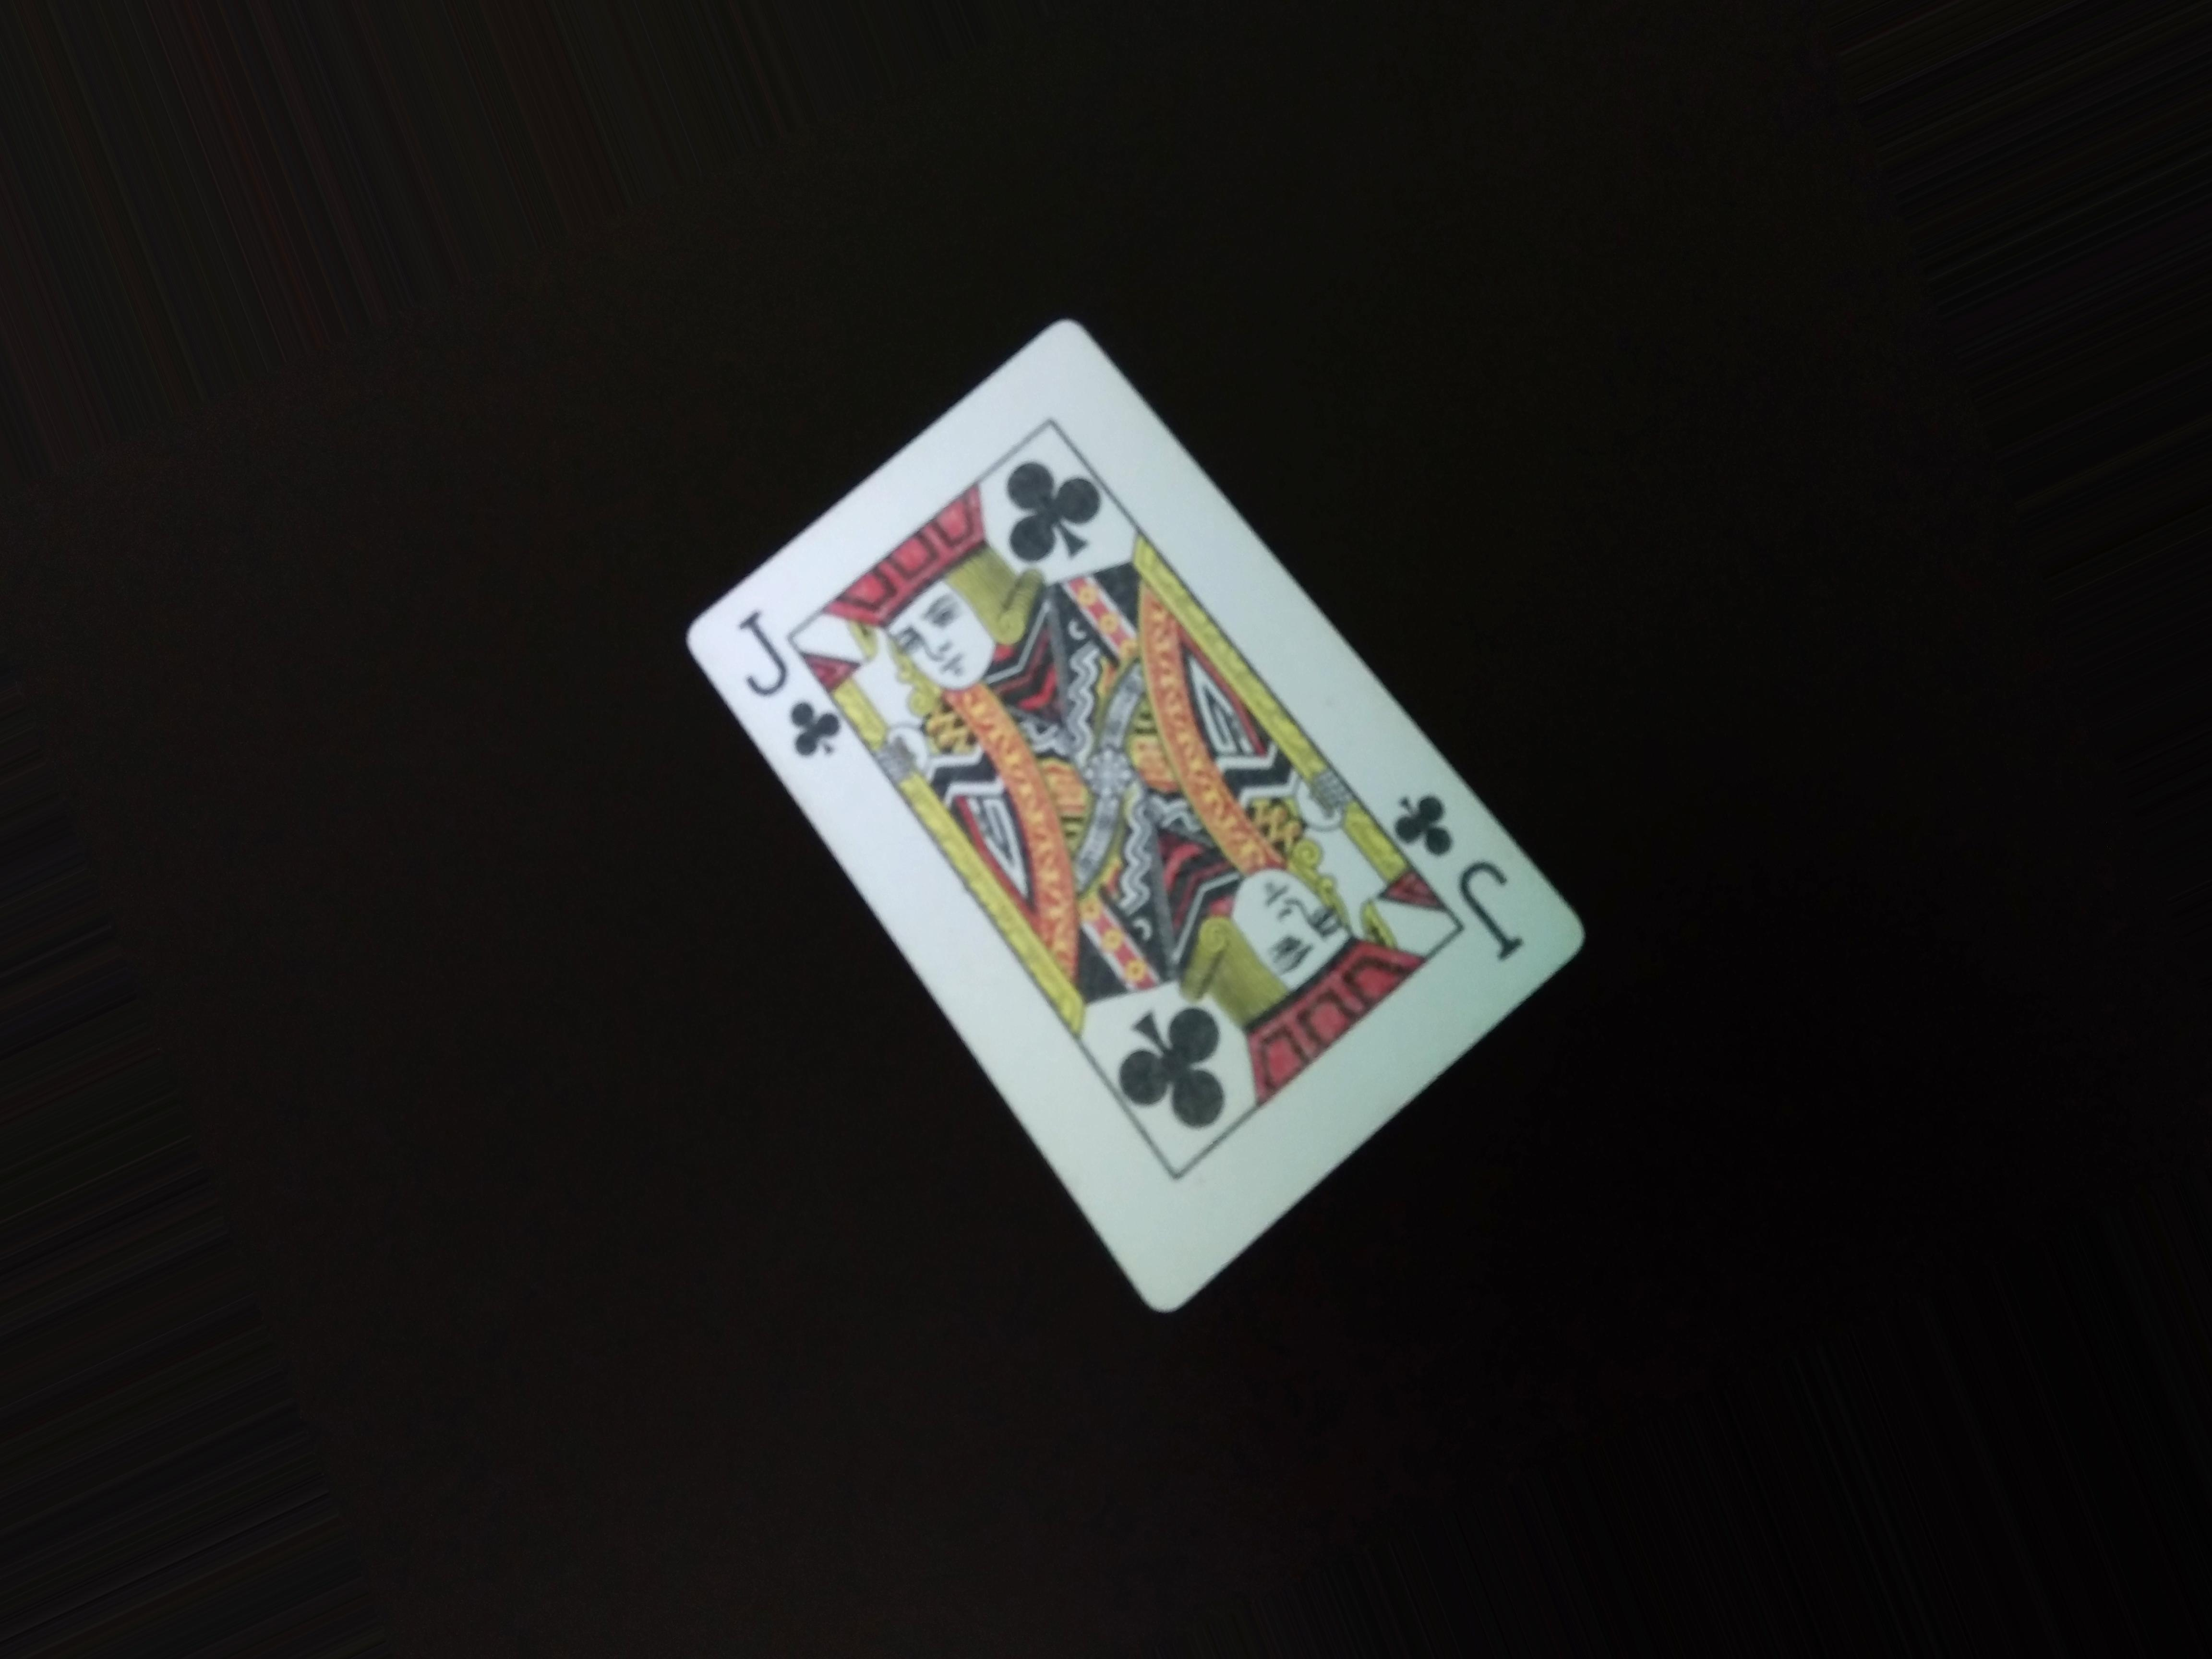JC: (732, 598, 833, 760)
